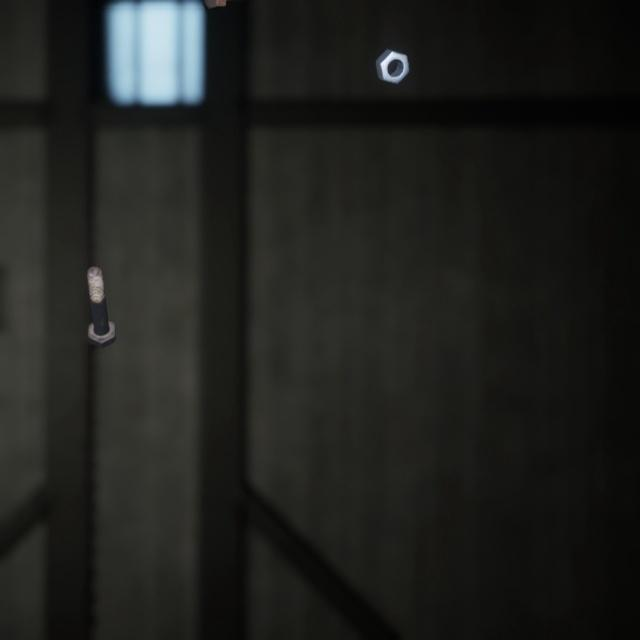bolt: (82, 244, 120, 335)
nut: (370, 35, 414, 79)
